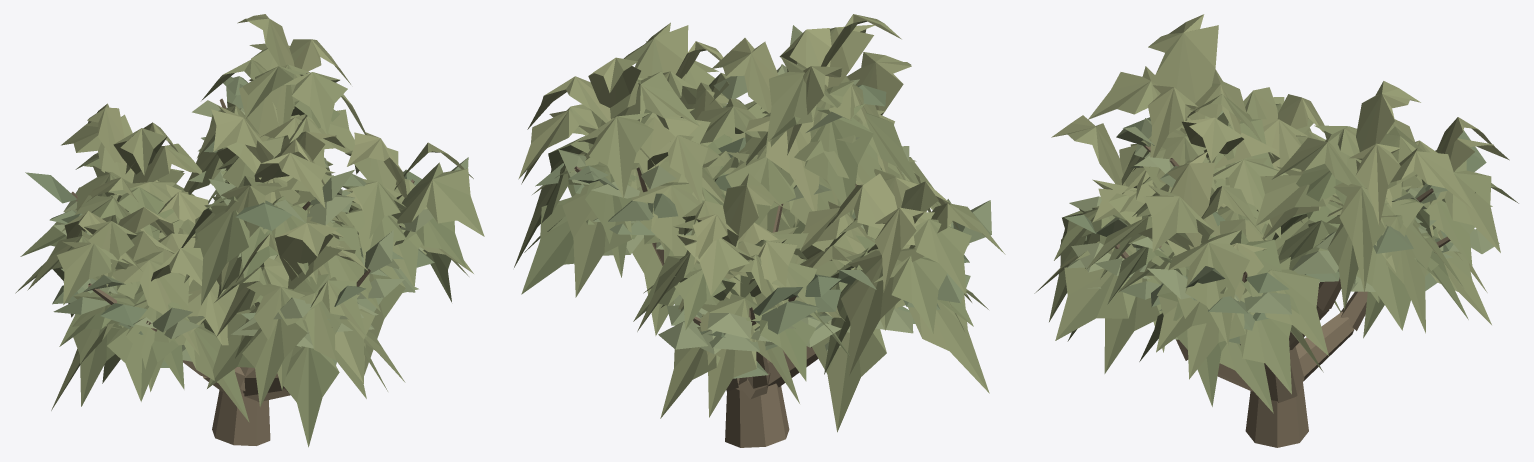
File: fan.glb
The picture shows the model from 3 angles, left to right: view 1: azimuth 30°, elevation 25°; view 2: azimuth 150°, elevation 25°; view 3: azimuth 270°, elevation 25°; orthographic projection. The views are drawn at different scales.
Parts seen in each view (by area): view 1: fan; view 2: fan; view 3: fan.
Boxes of the visible parts, x1,y1,x2,y2 form: fan: (15, 14, 484, 447); fan: (514, 14, 1005, 447); fan: (1034, 14, 1518, 447).
Size of the model in its own units: 1.78 by 1.58 by 1.79.
